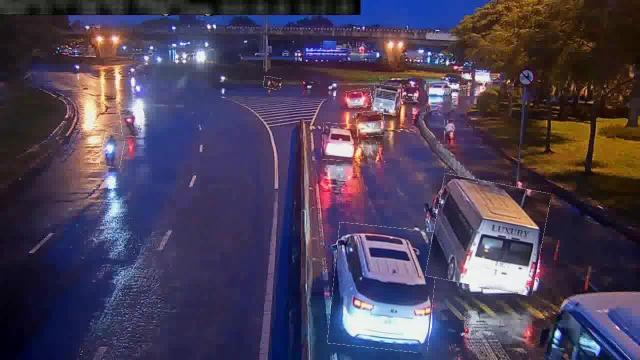Bike: (100, 132, 124, 168), (120, 108, 138, 138), (263, 77, 281, 89), (445, 120, 455, 140)
Bus: (429, 178, 546, 292)
Car: (330, 225, 436, 351), (322, 124, 358, 160), (356, 111, 384, 137), (348, 88, 372, 108), (429, 83, 449, 95)
Truck: (372, 86, 401, 115)
